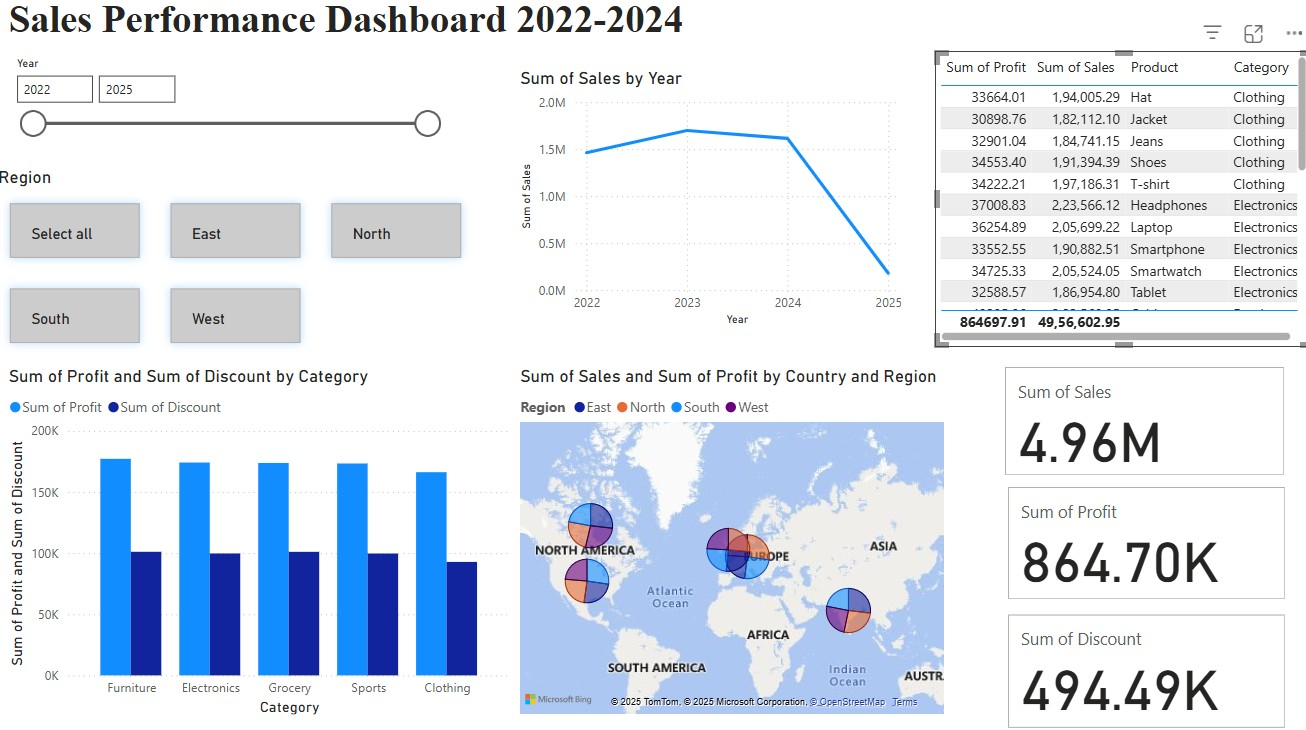

The dashboard page shown, as its layout file describes it:
{"tool":"powerbi","page":{"name":"SalesPerformance","canvas":[1280,720],"ordinal":0},"visuals":[{"type":"lineChart","title":"Sum of Sales by Year","fields":{"Category":["sales_data.Order Date.Variation.Date Hierarchy.Year","sales_data.Order Date.Variation.Date Hierarchy.Month"],"Y":["Sum(sales_data.Sales)"]},"box":[506.9,58,379.3,271.7],"z":0},{"type":"clusteredColumnChart","fields":{"Category":["sales_data.Category"],"Y":["Sum(sales_data.Profit)","Sum(sales_data.Discount)"]},"box":[9.9,364.4,496.9,342.9],"z":1000},{"type":"tableEx","fields":{"Values":["Sum(sales_data.Profit)","Sum(sales_data.Sales)","sales_data.Product","sales_data.Category"]},"box":[914.4,58,366.1,286.6],"z":2000},{"type":"map","fields":{"Category":["sales_data.Country"],"Size":["Sum(sales_data.Sales)"],"Series":["sales_data.Region"]},"box":[506.9,364.4,420.7,342.9],"z":3000},{"type":"cardVisual","fields":{"Data":["Sum(sales_data.Sales)"]},"box":[977.3,359.5,281.6,116],"z":4000},{"type":"cardVisual","fields":{"Data":["Sum(sales_data.Profit)"]},"box":[979,475.4,279.9,119.3],"z":5000},{"type":"cardVisual","fields":{"Data":["Sum(sales_data.Discount)"]},"box":[979,599.6,279.9,120.9],"z":6000},{"type":"textbox","box":[9.9,0,824.9,74.5],"z":7000},{"type":"slicer","fields":{"Values":["sales_data.Order Date.Variation.Date Hierarchy.Year"]},"box":[9.9,58,432.3,96.1],"z":8000},{"type":"advancedSlicerVisual","fields":{"Values":["sales_data.Region"]},"box":[0,170.6,470.4,188.8],"z":9000}]}

Visuals, with their boxes in screenshot pixels (x1, y1, x2, y2), scaled from the page's 1280x720 canvas onto the 1306x730 screenshot:
"Sum of Sales by Year" lineChart: crop(517, 59, 904, 334)
clusteredColumnChart - sales_data.Category x Sum(sales_data.Profit): crop(10, 369, 517, 717)
tableEx - Sum(sales_data.Profit) x Sum(sales_data.Sales): crop(933, 59, 1305, 349)
map - sales_data.Country x Sum(sales_data.Sales): crop(517, 369, 946, 717)
cardVisual - Sum(sales_data.Sales): crop(997, 364, 1284, 482)
cardVisual - Sum(sales_data.Profit): crop(999, 482, 1284, 603)
cardVisual - Sum(sales_data.Discount): crop(999, 608, 1284, 729)
textbox: crop(10, 0, 852, 76)
slicer - sales_data.Order Date.Variation.Date Hierarchy.Year: crop(10, 59, 451, 156)
advancedSlicerVisual - sales_data.Region: crop(0, 173, 480, 364)
